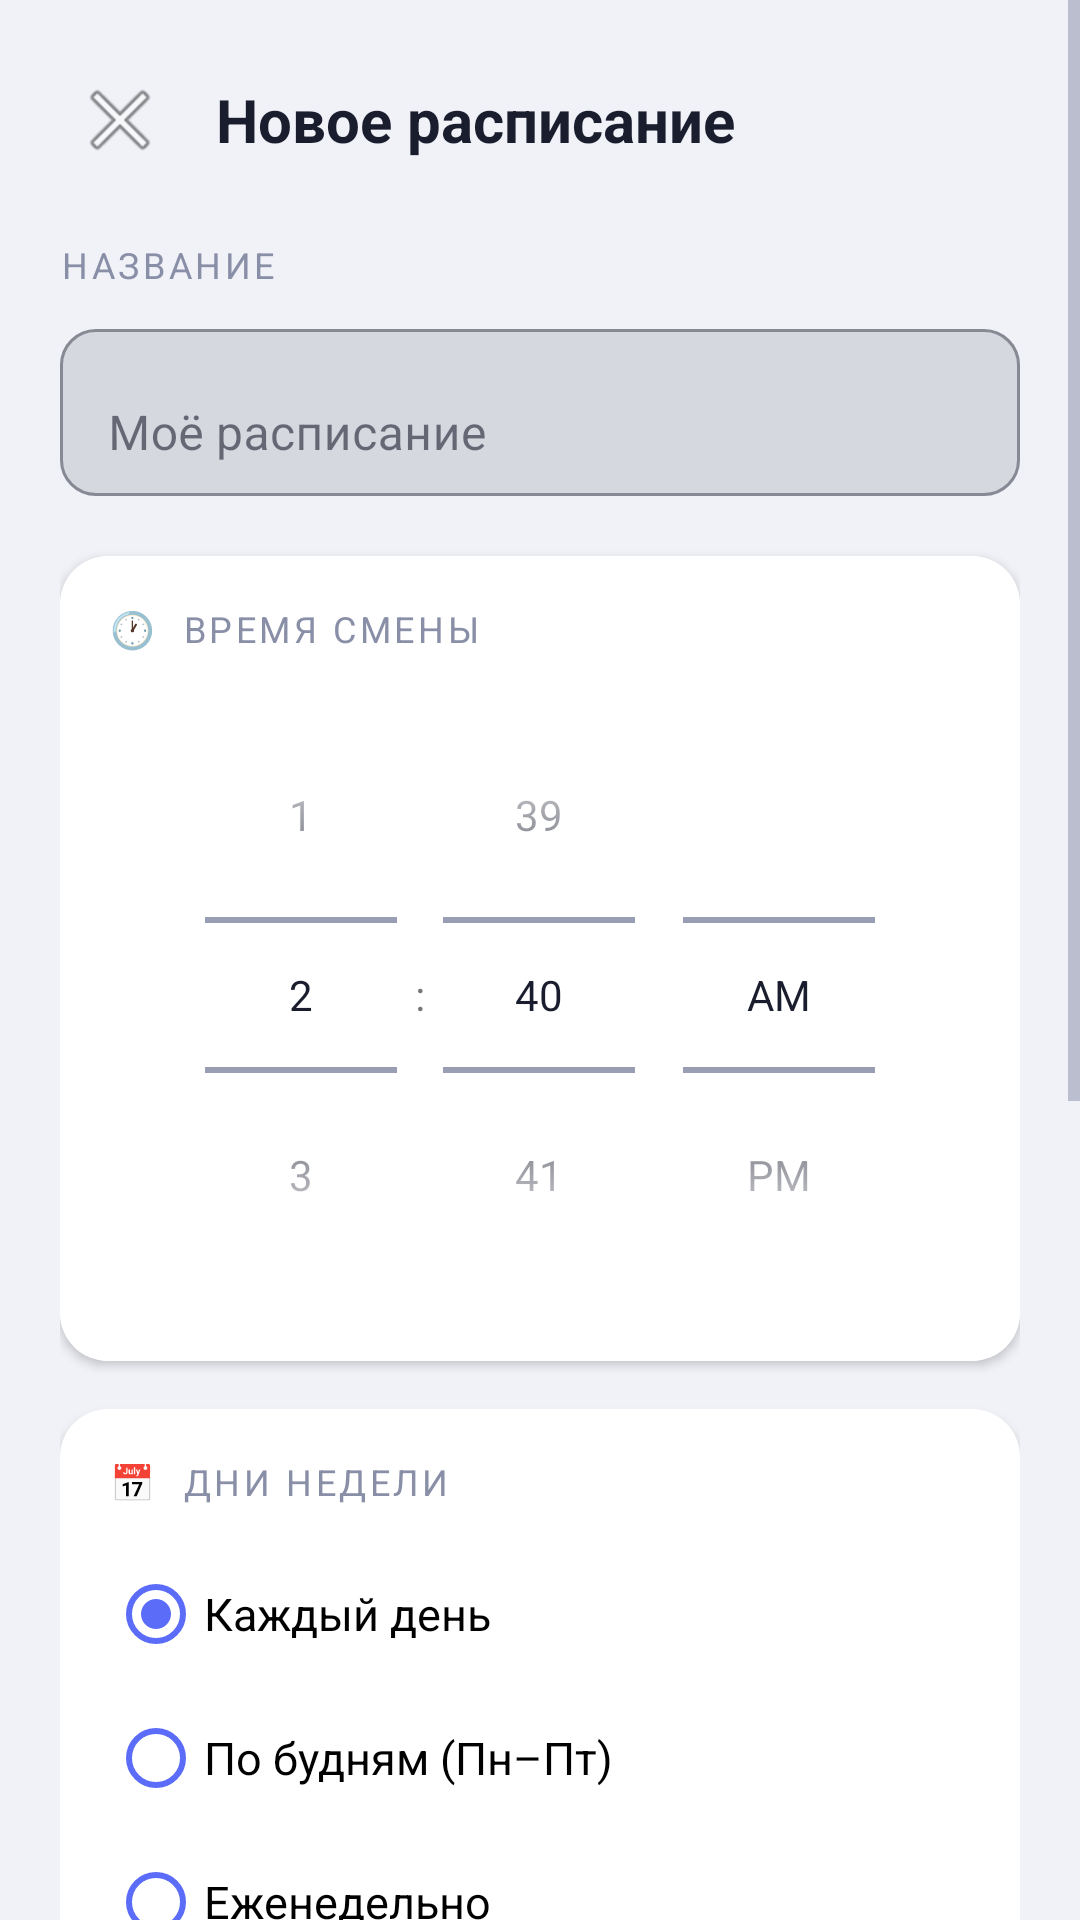

Named icons in this screenshot (1080px x 1920px) and their bounding boxes, (x1, y1, x2, y2):
close clear cancel: (90, 90, 150, 150)
